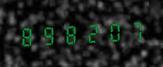eight: (17, 23, 37, 49), (60, 21, 80, 47)
nine: (38, 22, 58, 48)
seven: (123, 17, 143, 43)
two: (81, 20, 101, 45)
zero: (102, 18, 122, 44)
